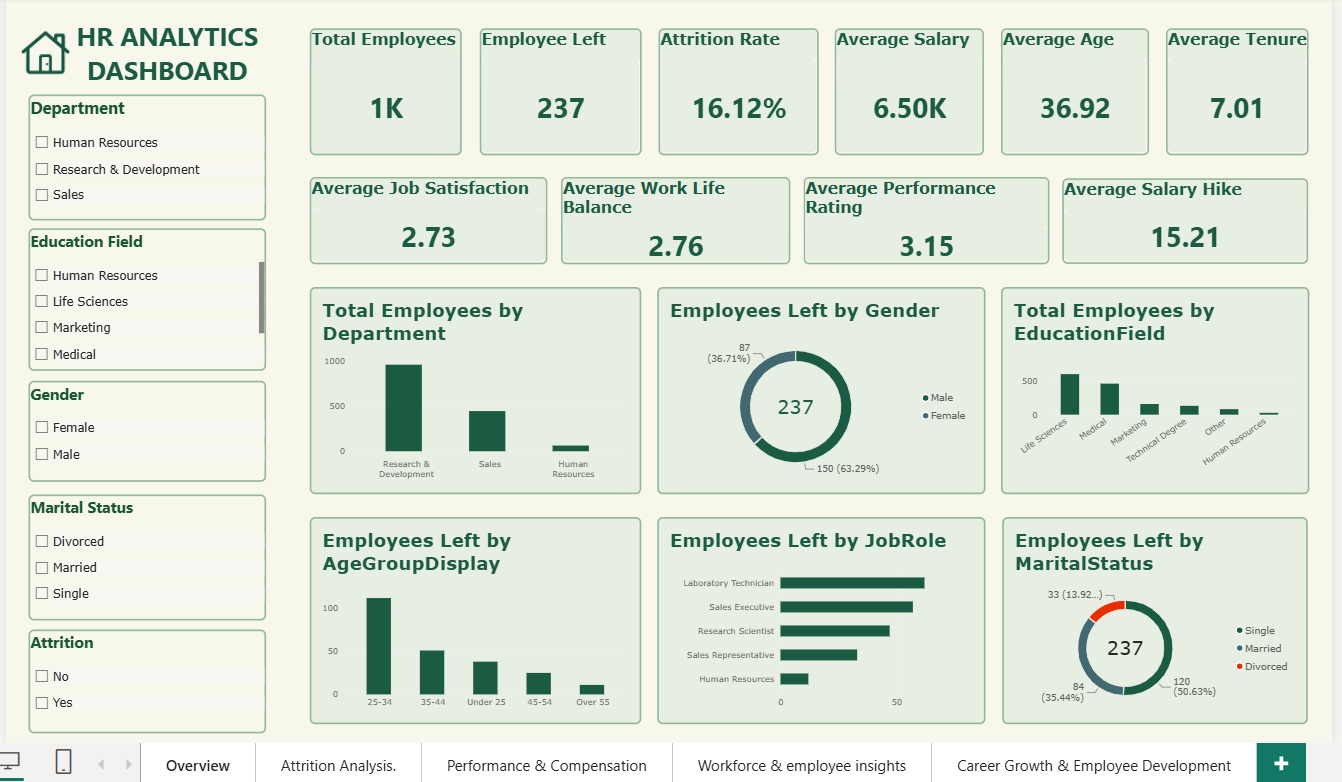

The dashboard page shown, as its layout file describes it:
{"tool":"powerbi","page":{"name":"Overview","canvas":[1920,1080],"ordinal":0},"visuals":[{"type":"cardVisual","title":"Total Employees","fields":{"Data":["HR_Analytics_Final.Total Employees"]},"box":[440,46,220,184],"z":0},{"type":"cardVisual","title":"Employee Left","fields":{"Data":["HR_Analytics_Final.Employees Left"]},"box":[686,46,234,184],"z":1000},{"type":"cardVisual","title":"Attrition Rate","fields":{"Data":["HR_Analytics_Final.Attrition Rate"]},"box":[944,46,232,184],"z":2000},{"type":"cardVisual","title":"Average Salary","fields":{"Data":["HR_Analytics_Final.Average Salary"]},"box":[1200,46,216,184],"z":3000},{"type":"cardVisual","title":"Average Age","fields":{"Data":["HR_Analytics_Final.Average Age"]},"box":[1440,46,214,184],"z":4000},{"type":"cardVisual","title":"Average Tenure","fields":{"Data":["HR_Analytics_Final.Average Tenure"]},"box":[1680,46,206,184],"z":5000},{"type":"cardVisual","title":"Average Job Satisfaction","fields":{"Data":["HR_Analytics_Final.Average Job Satisfaction"]},"box":[440,260,344,126],"z":6000},{"type":"cardVisual","title":"Average Work Life Balance","fields":{"Data":["HR_Analytics_Final.Average Work Life Balance"]},"box":[804,260,332,126],"z":7000},{"type":"cardVisual","title":"Average Performance Rating","fields":{"Data":["HR_Analytics_Final.Average Performance Rating"]},"box":[1154,260,356.2,126.2],"z":8000},{"type":"cardVisual","title":"Average Salary Hike","fields":{"Data":["HR_Analytics_Final.Average Salary Hike"]},"box":[1530,262,356.2,123.8],"z":9000},{"type":"clusteredColumnChart","fields":{"Category":["HR_Analytics_Final.Department"],"Y":["HR_Analytics_Final.Total Employees"]},"box":[440,419,480,300],"z":10000},{"type":"clusteredColumnChart","fields":{"Category":["HR_Analytics_Final.EducationField"],"Y":["HR_Analytics_Final.Total Employees"]},"box":[1440,420,446,300],"z":11000},{"type":"donutChart","fields":{"Category":["HR_Analytics_Final.Gender"],"Y":["HR_Analytics_Final.Employees Left"]},"box":[942.5,419,475,300],"z":12000},{"type":"clusteredColumnChart","fields":{"Category":["HR_Analytics_Final.AgeGroupDisplay"],"Y":["HR_Analytics_Final.Employees Left"]},"box":[440,752.5,480,300],"z":13000},{"type":"clusteredBarChart","fields":{"Category":["HR_Analytics_Final.JobRole"],"Y":["HR_Analytics_Final.Employees Left"]},"box":[942.5,752.5,475,300],"z":14000},{"type":"donutChart","fields":{"Category":["HR_Analytics_Final.MaritalStatus"],"Y":["HR_Analytics_Final.Employees Left"]},"box":[1442.5,752.5,442.5,300],"z":15000},{"type":"textbox","box":[90,30,286,108],"z":16000},{"type":"slicer","title":"Education Field","fields":{"Values":["HR_Analytics_Final.EducationField"]},"box":[32,334,344,206],"z":17000},{"type":"slicer","title":"Gender","fields":{"Values":["HR_Analytics_Final.Gender"]},"box":[32,556,344,146],"z":18000},{"type":"slicer","title":"Department","fields":{"Values":["HR_Analytics_Final.Department"]},"box":[32,142,344,182],"z":19000},{"type":"slicer","title":"Marital Status","fields":{"Values":["HR_Analytics_Final.MaritalStatus"]},"box":[32,720,344,182],"z":20000},{"type":"slicer","title":"Attrition","fields":{"Values":["HR_Analytics_Final.Attrition"]},"box":[32,916,344,150],"z":21000},{"type":"image","box":[0,0,114,158],"z":22000}]}

Visuals, with their boxes on the page's 1920x1080 design canvas (x1, y1, x2, y2). These are canvas units, not pixel positions in the 1342x782 screenshot, which may show the page scaled, cropped or inside an application window:
"Total Employees" cardVisual: select_region(440, 46, 660, 230)
"Employee Left" cardVisual: select_region(686, 46, 920, 230)
"Attrition Rate" cardVisual: select_region(944, 46, 1176, 230)
"Average Salary" cardVisual: select_region(1200, 46, 1416, 230)
"Average Age" cardVisual: select_region(1440, 46, 1654, 230)
"Average Tenure" cardVisual: select_region(1680, 46, 1886, 230)
"Average Job Satisfaction" cardVisual: select_region(440, 260, 784, 386)
"Average Work Life Balance" cardVisual: select_region(804, 260, 1136, 386)
"Average Performance Rating" cardVisual: select_region(1154, 260, 1510, 386)
"Average Salary Hike" cardVisual: select_region(1530, 262, 1886, 386)
clusteredColumnChart - HR_Analytics_Final.Department x HR_Analytics_Final.Total Employees: select_region(440, 419, 920, 719)
clusteredColumnChart - HR_Analytics_Final.EducationField x HR_Analytics_Final.Total Employees: select_region(1440, 420, 1886, 720)
donutChart - HR_Analytics_Final.Gender x HR_Analytics_Final.Employees Left: select_region(942, 419, 1418, 719)
clusteredColumnChart - HR_Analytics_Final.AgeGroupDisplay x HR_Analytics_Final.Employees Left: select_region(440, 752, 920, 1052)
clusteredBarChart - HR_Analytics_Final.JobRole x HR_Analytics_Final.Employees Left: select_region(942, 752, 1418, 1052)
donutChart - HR_Analytics_Final.MaritalStatus x HR_Analytics_Final.Employees Left: select_region(1442, 752, 1885, 1052)
textbox: select_region(90, 30, 376, 138)
"Education Field" slicer: select_region(32, 334, 376, 540)
"Gender" slicer: select_region(32, 556, 376, 702)
"Department" slicer: select_region(32, 142, 376, 324)
"Marital Status" slicer: select_region(32, 720, 376, 902)
"Attrition" slicer: select_region(32, 916, 376, 1066)
image: select_region(0, 0, 114, 158)
